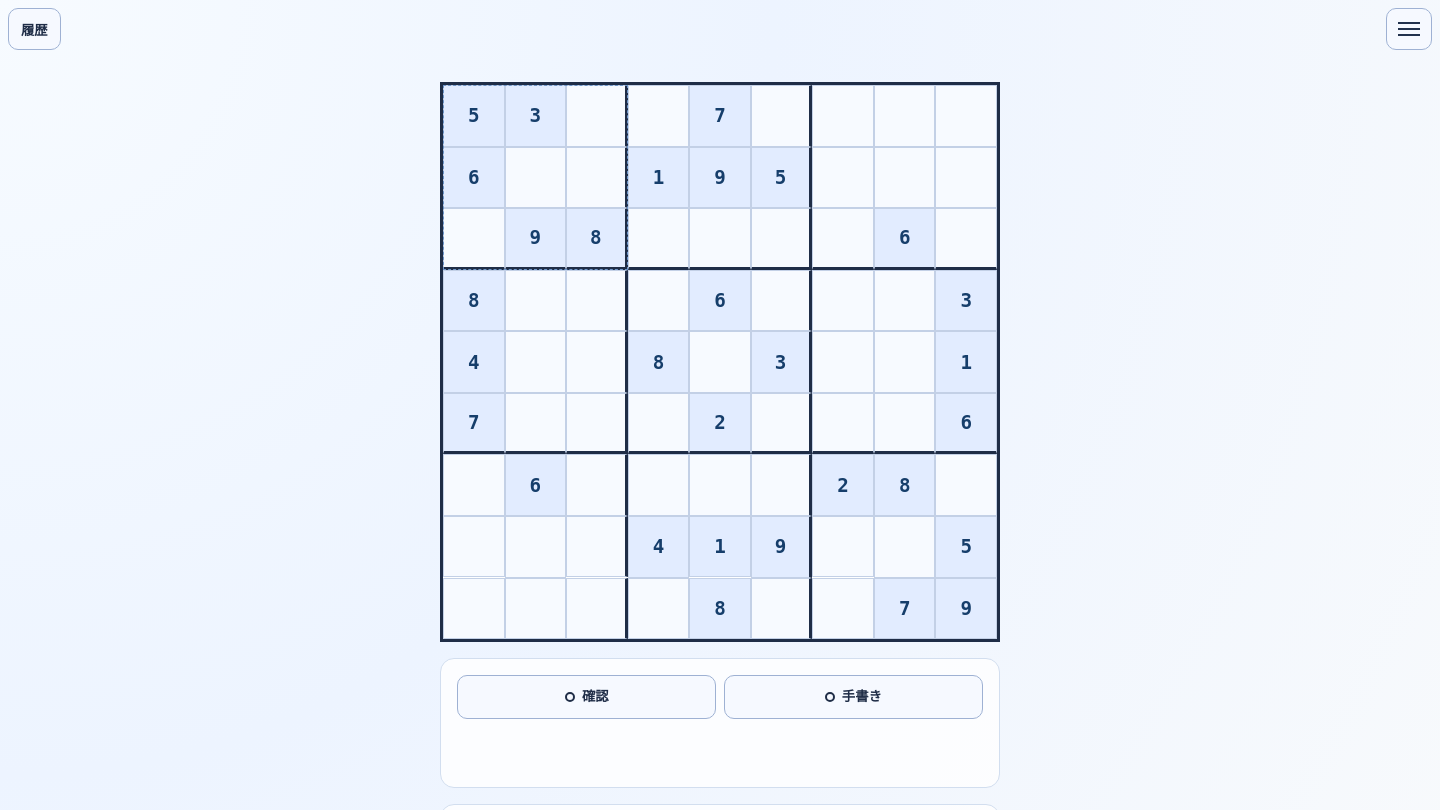
Test: Sudoku UI review mode › shows float ink actions only while ink mode is on
Click the button named "手書きモード切替（現在: OFF）".
click(853, 697)  # box [724, 675, 983, 719]
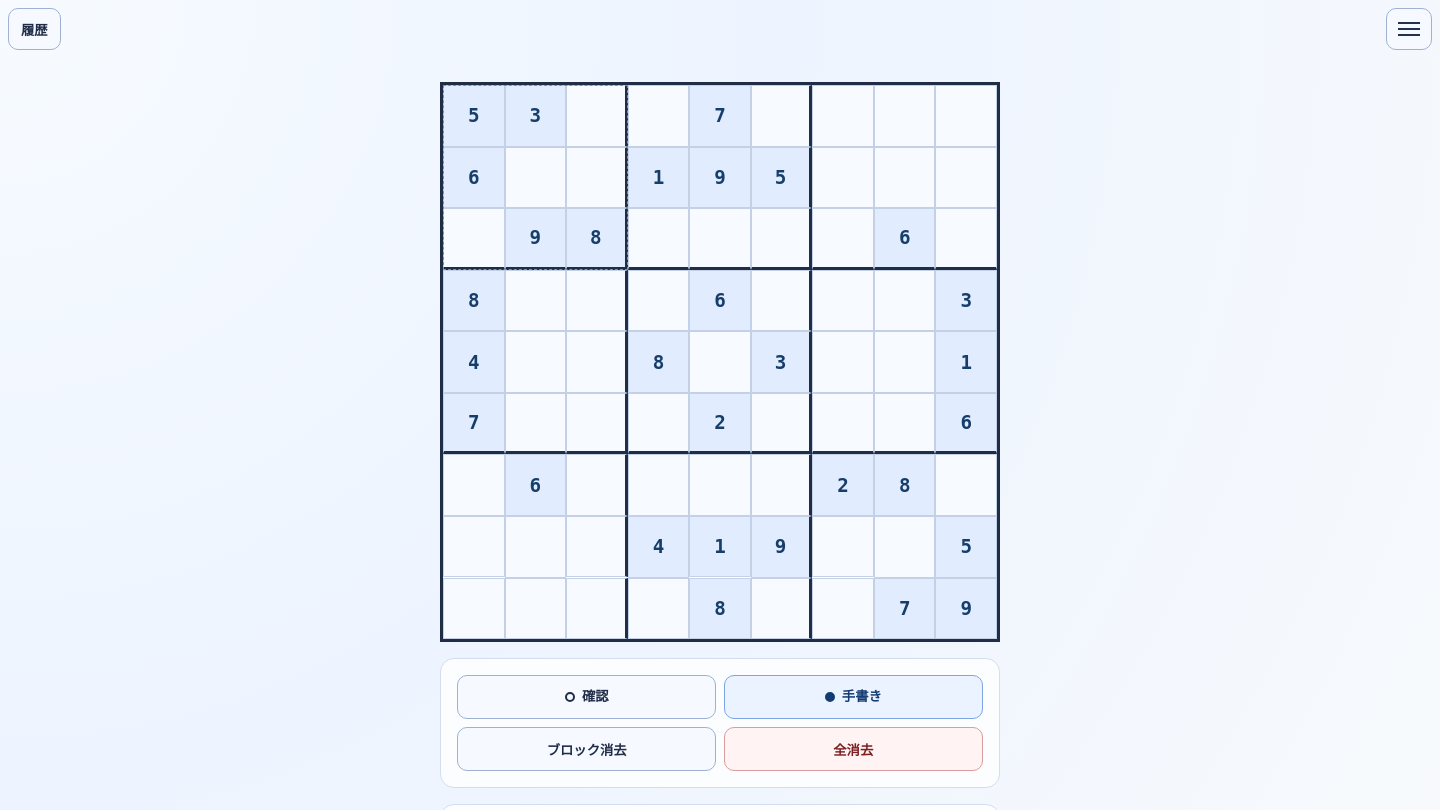
expect the element named "手書き操作" is shown: met, box [457, 727, 983, 771]
expect the button "ブロック消去" is shown: met, box [457, 727, 716, 771]
Click the button named "手書きモード切替（現在: ON）".
click(853, 697)  # box [724, 675, 983, 719]
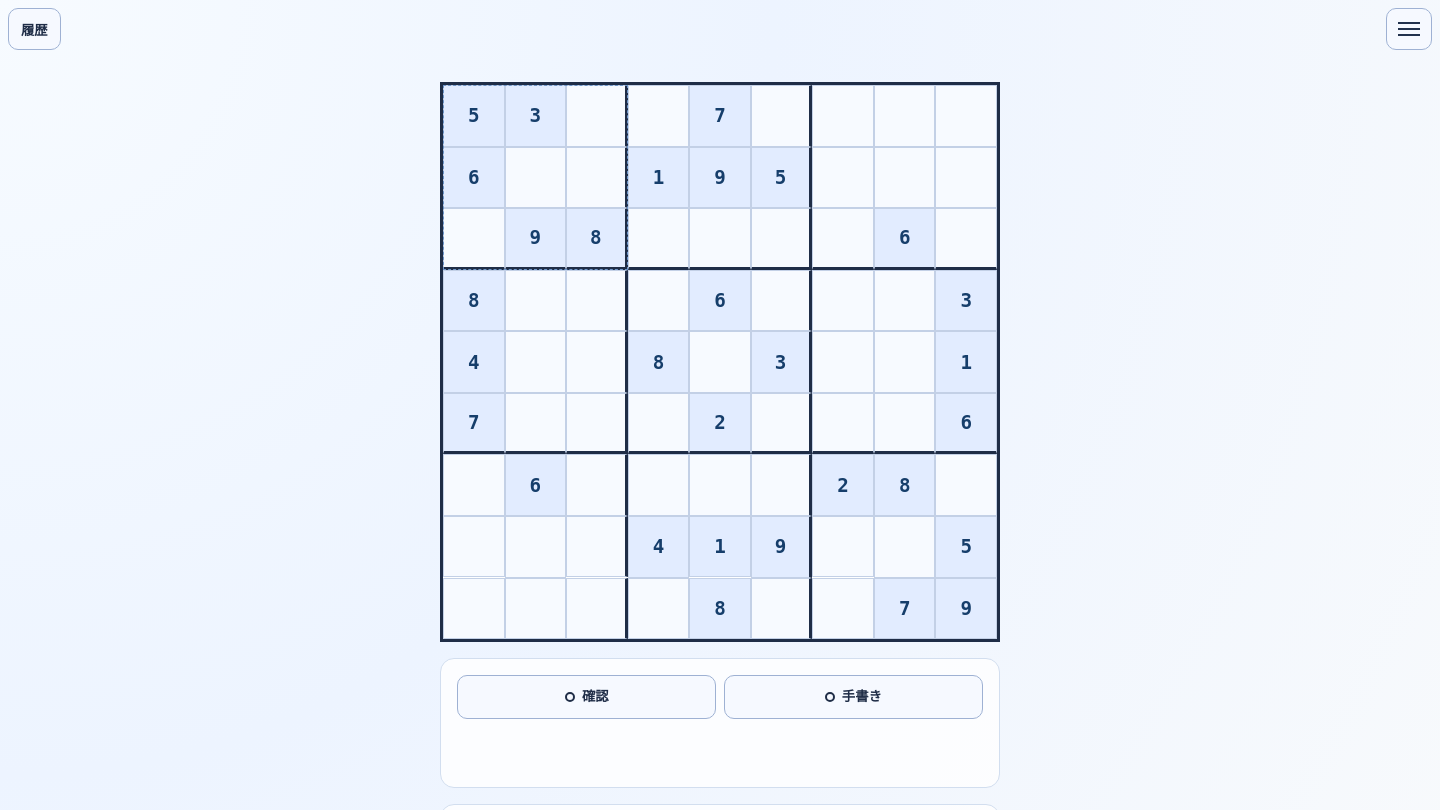
expect the element "手書き操作" is gone: met
